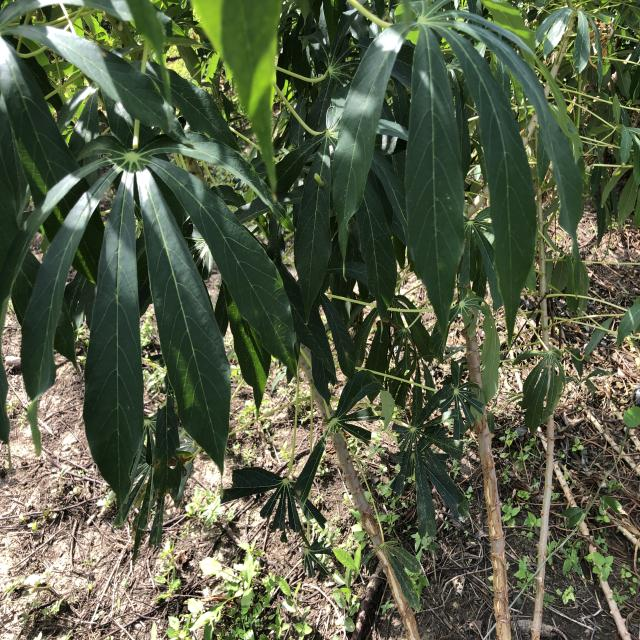Mosca: (310, 169, 327, 191), (164, 424, 173, 435)
